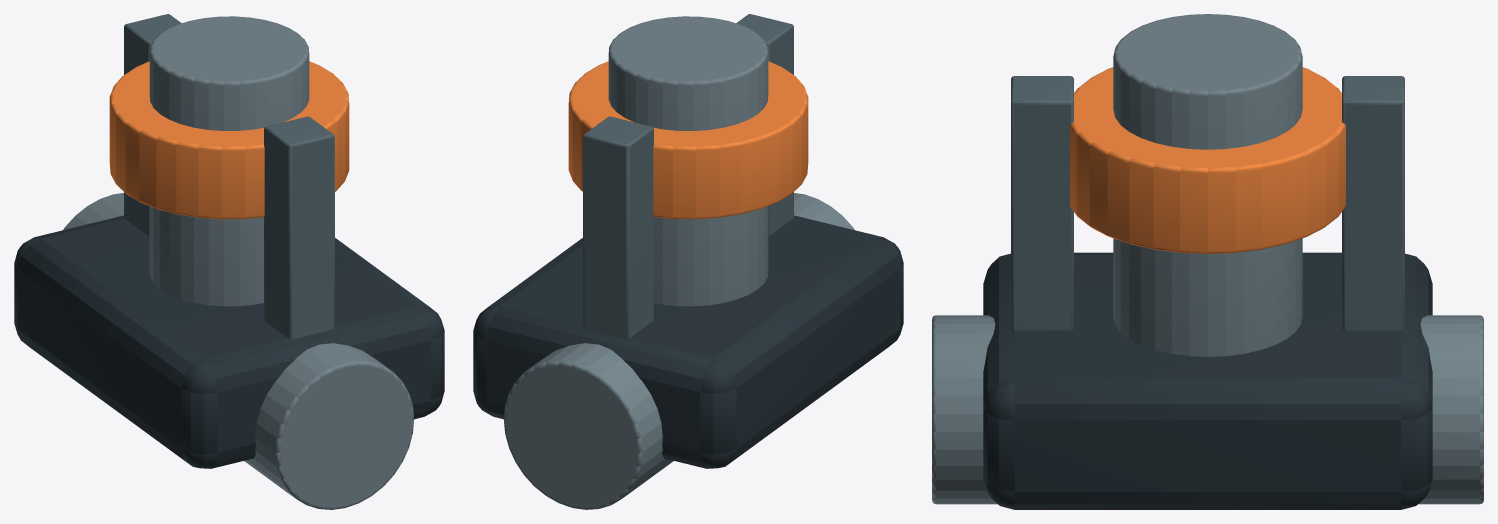
Rendered from SM_Mech_GearShin.fbx.
3 renders of one model, left to right at view 1: azimuth 30°, elevation 25°; view 2: azimuth 150°, elevation 25°; view 3: azimuth 270°, elevation 25°, orthographic. The views are drawn at different scales.
Parts seen in each view (by area): view 1: SM_Mech_GearShin; view 2: SM_Mech_GearShin; view 3: SM_Mech_GearShin.
Boxes of the visible parts, x1,y1,x2,y2 form: SM_Mech_GearShin: [14, 14, 444, 509]; SM_Mech_GearShin: [473, 14, 903, 509]; SM_Mech_GearShin: [932, 14, 1483, 509].
Size of the model in its own units: 45 by 70 by 62.
